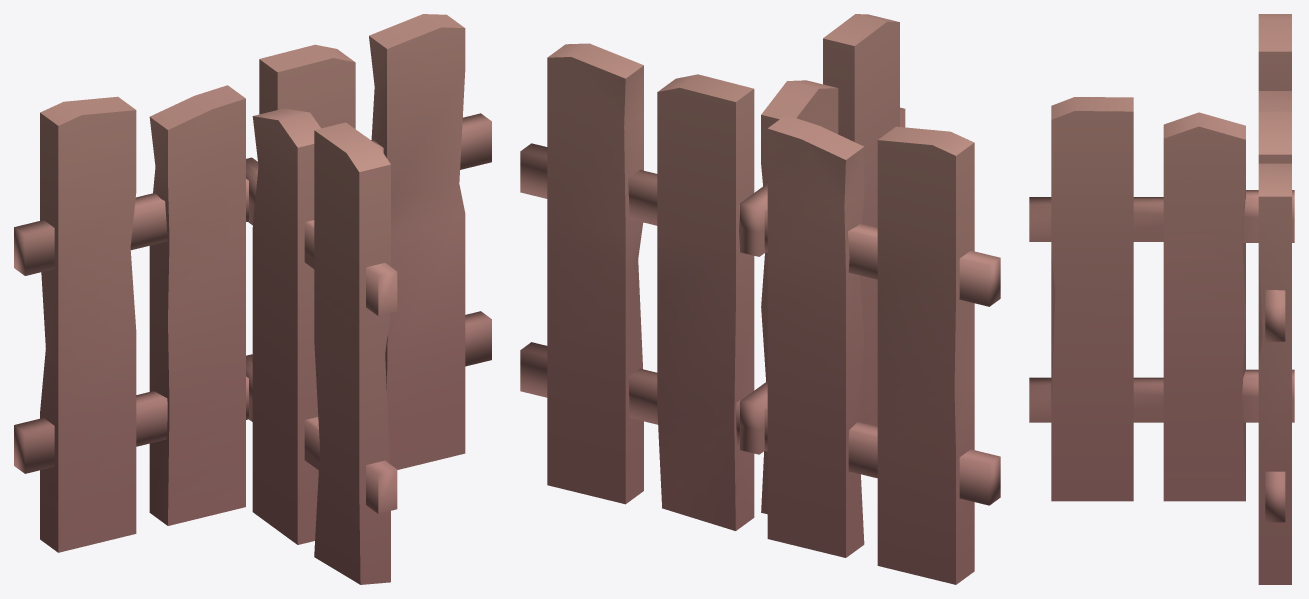
Rendered from Fence_Tshape.glb.
The picture shows the model from 3 angles, left to right: view 1: azimuth 30°, elevation 25°; view 2: azimuth 150°, elevation 25°; view 3: azimuth 270°, elevation 25°; orthographic projection. The views are drawn at different scales.
Parts seen in each view (by area): view 1: Fence_Tshape; view 2: Fence_Tshape; view 3: Fence_Tshape.
Boxes of the visible parts, box(x1,y1,x2,y2) form: Fence_Tshape: box(14, 14, 491, 584); Fence_Tshape: box(520, 14, 1000, 584); Fence_Tshape: box(1029, 14, 1294, 584).
Size of the model in its own units: 0.5 by 0.4421 by 0.2697.
2 materials, 2 textured.
